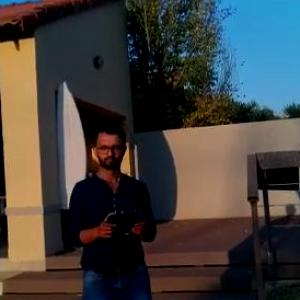follow: (62, 117, 162, 299)
